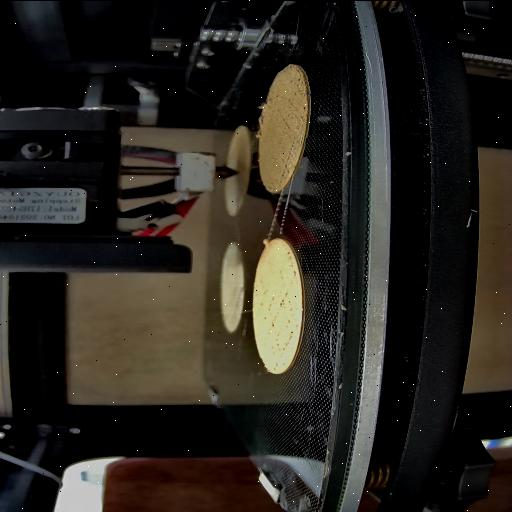under_extrusion: (261, 288, 301, 354), (275, 79, 308, 133), (278, 143, 298, 184), (280, 248, 296, 276)
